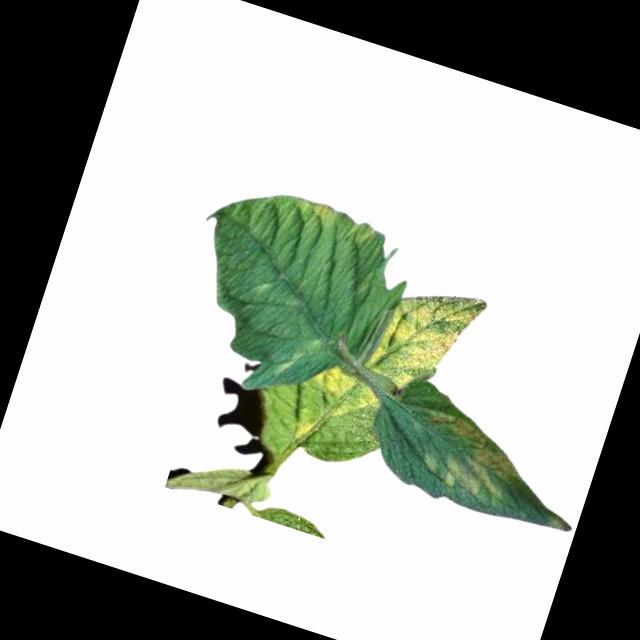Leaf_Mold: (362, 271, 491, 410), (404, 401, 535, 509), (301, 356, 392, 431), (294, 194, 342, 227), (288, 413, 319, 450)
